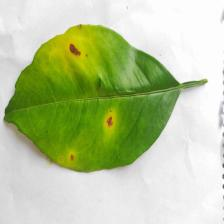canker: (57, 38, 128, 173)
